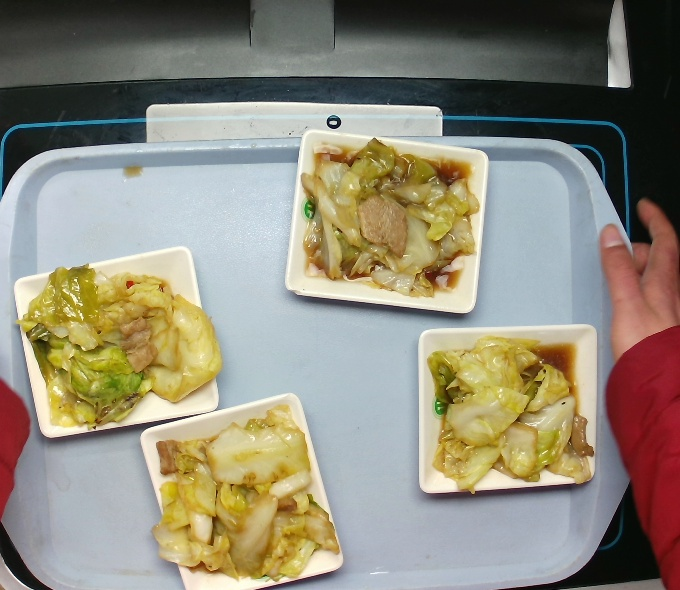wcq-JuanXinCaiChaoRou: (10, 252, 232, 427), (136, 411, 349, 590), (284, 133, 487, 306), (412, 335, 600, 498)
